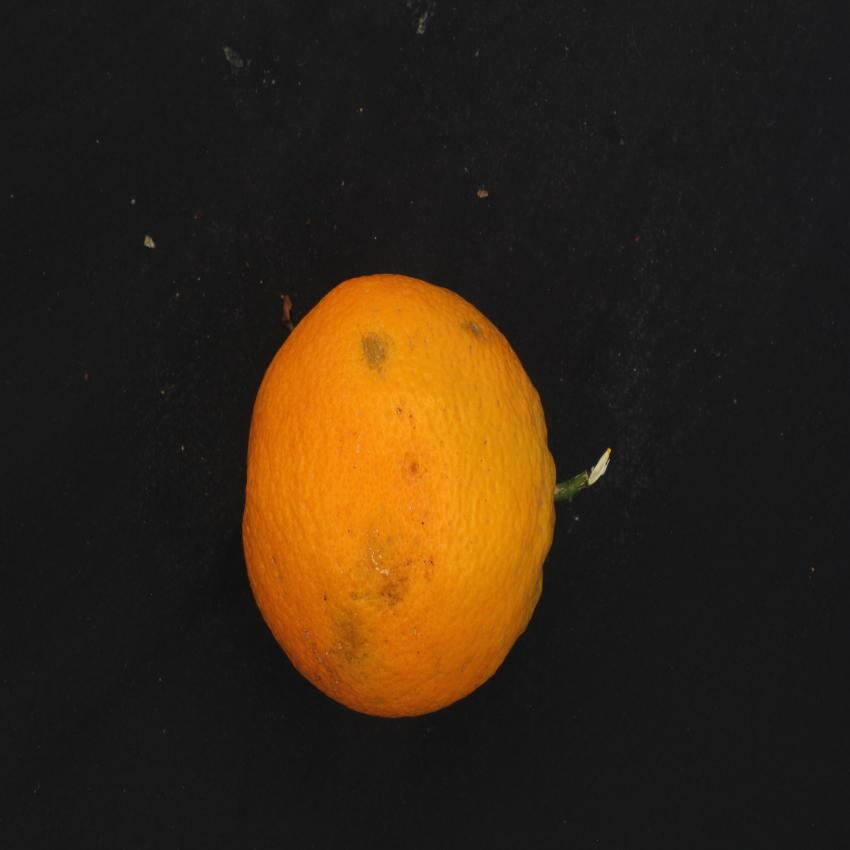Buen estado: (229, 260, 563, 730)
